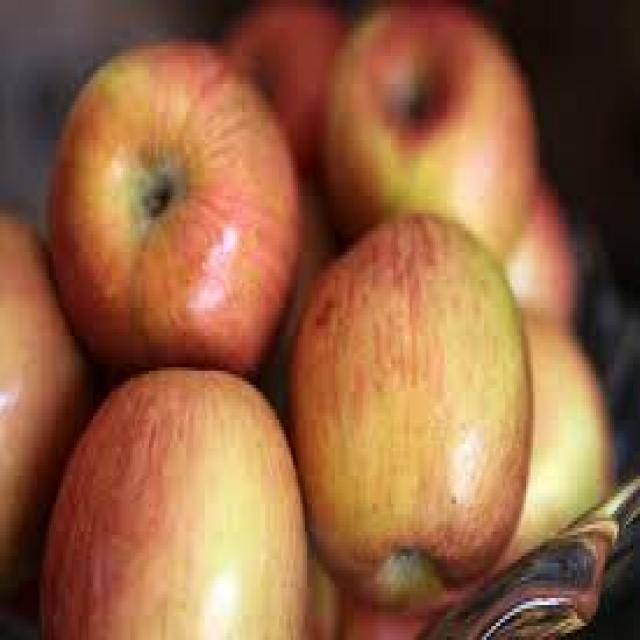organic waste: (289, 206, 528, 605), (47, 39, 300, 364), (35, 364, 307, 636), (316, 0, 538, 266), (0, 210, 86, 619), (489, 304, 612, 574), (214, 0, 342, 189), (254, 189, 342, 416), (496, 164, 577, 322), (305, 552, 340, 636)
